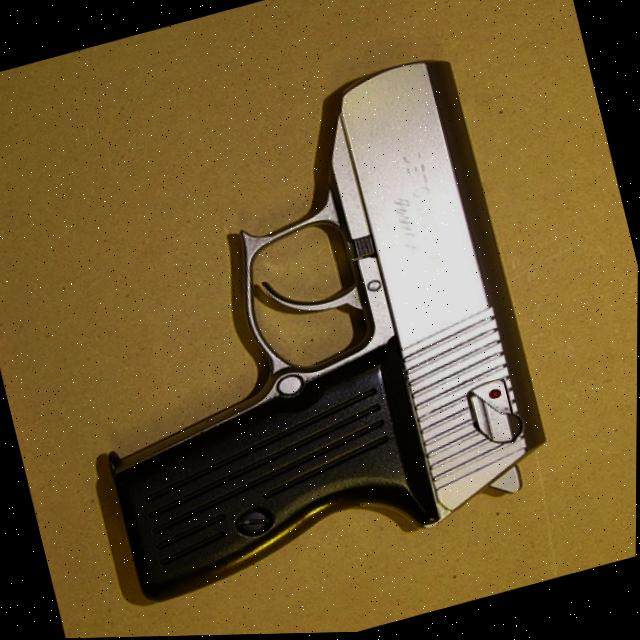pistol: (33, 49, 566, 609)
